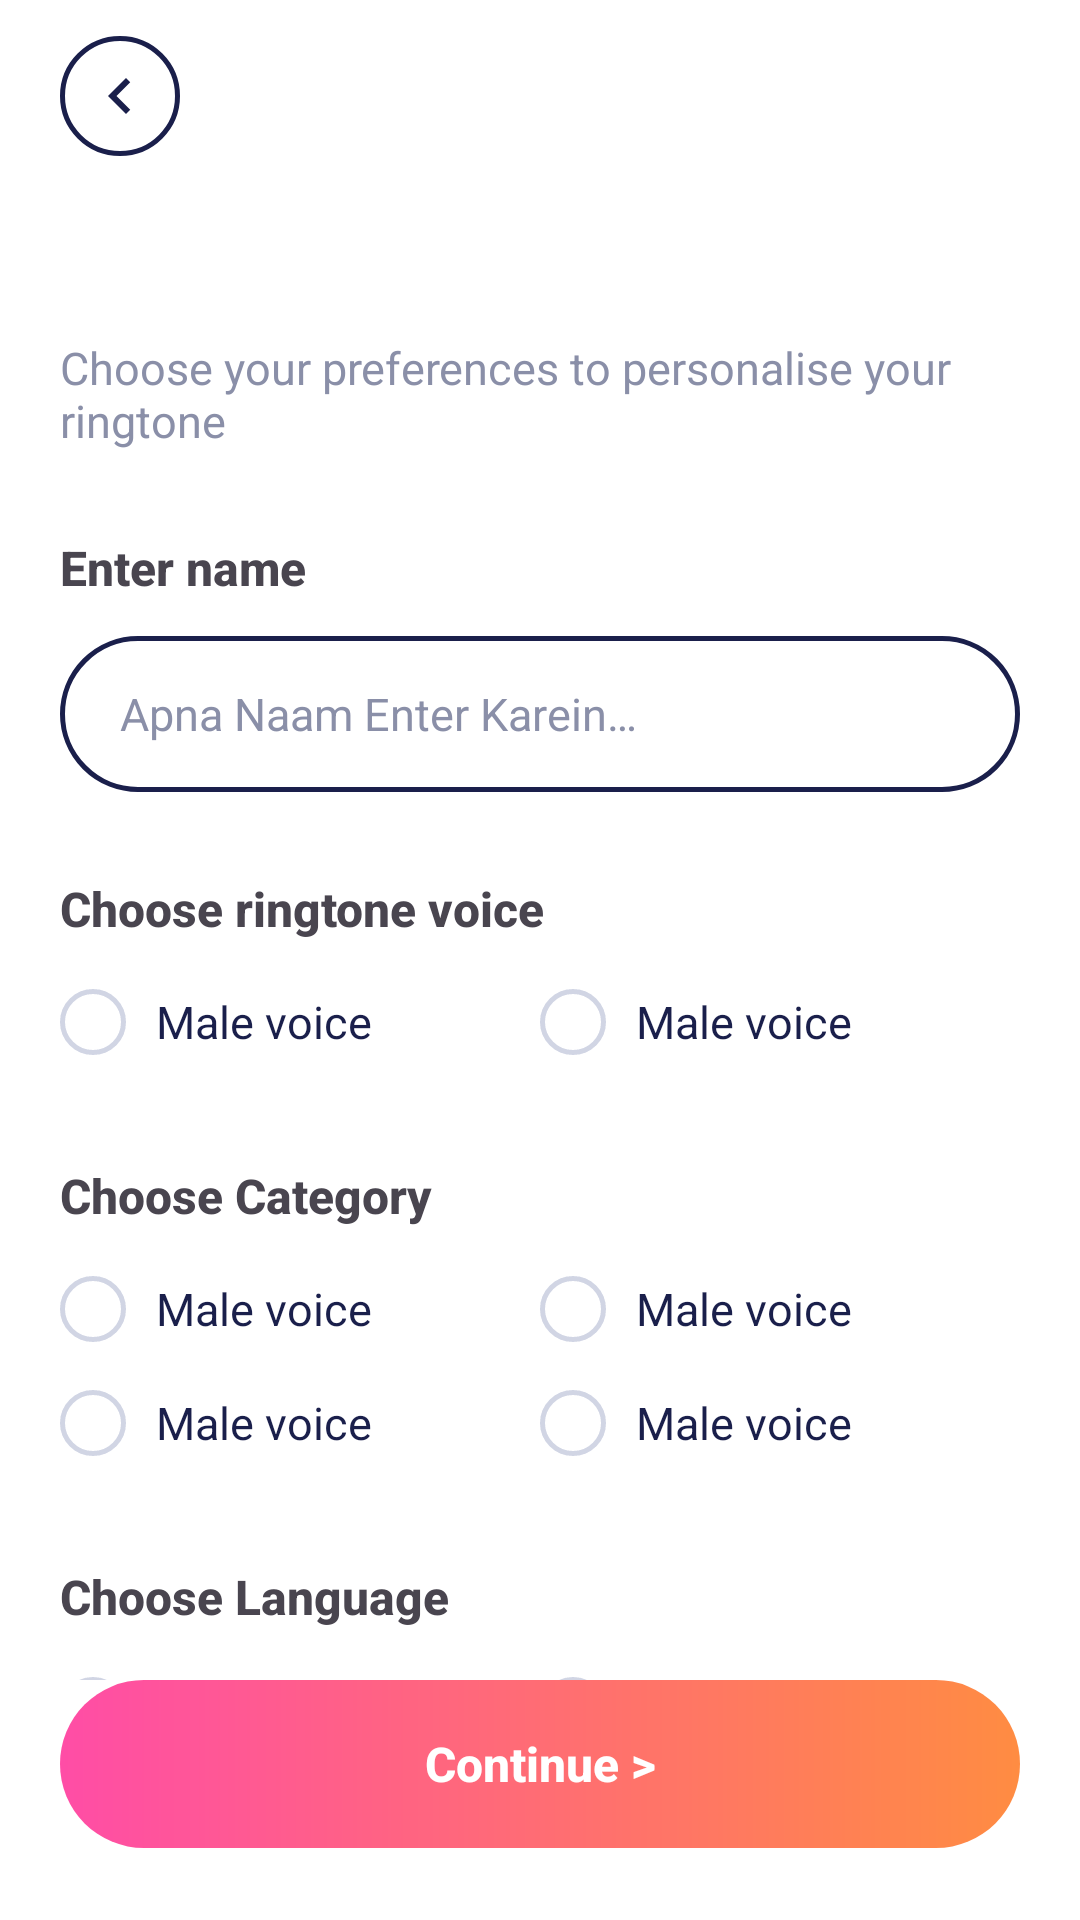

Icons on this 1080 x 1920 Android screen, each with its box as rect(x1, y1, x2, y2):
Back: rect(60, 36, 180, 156)
